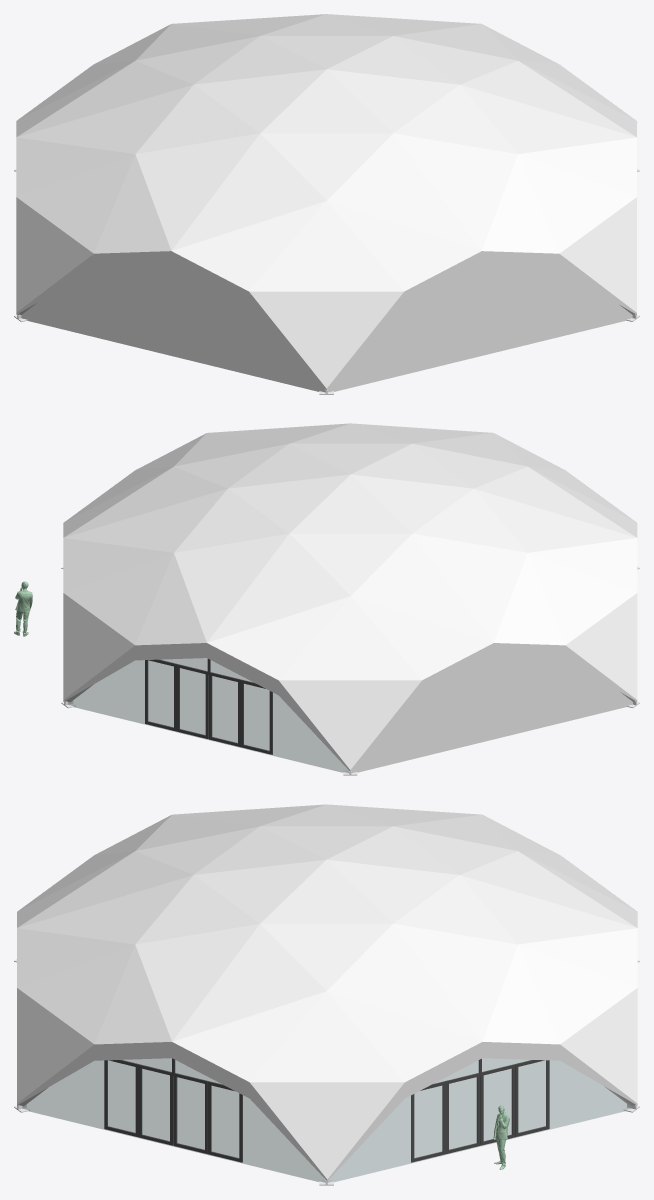
The model's file is hexa285.glb.
3 views of the same model, one above another, from view 1: azimuth 30°, elevation 25°; view 2: azimuth 150°, elevation 25°; view 3: azimuth 270°, elevation 25° (orthographic). The views are drawn at different scales.
Parts seen in each view (by area): view 1: tent, sidewall-1, sidewall-2, logo-area-4, logo-area-5, logo-area-3; view 2: tent, sidewall-3, windows-1, logo-area-6, logo-area-5, logo-area-1, ОСТЕКЛЕНИЕ.002, ОСТЕКЛЕНИЕ, ОСТЕКЛЕНИЕ.001, human, ОСТЕКЛЕНИЕ.003; view 3: tent, windows-3, windows-2, logo-area-2, logo-area-1, logo-area-3, ОСТЕКЛЕНИЕ020, ОСТЕКЛЕНИЕ019, ОСТЕКЛЕНИЕ013, ОСТЕКЛЕНИЕ010, ОСТЕКЛЕНИЕ021, ОСТЕКЛЕНИЕ012 (+3 smaller).
Boxes of the visible parts, x1,y1,x2,y2 form: tent: (16,14,636,390); sidewall-1: (327,267,632,392); sidewall-2: (21,267,325,392); logo-area-4: (249,291,403,388); logo-area-5: (16,197,93,312); logo-area-3: (559,197,636,312); tent: (63,423,637,771); sidewall-3: (351,658,632,772); windows-1: (68,658,349,772); logo-area-6: (279,680,421,769); logo-area-5: (566,593,637,699); logo-area-1: (63,593,134,699); ОСТЕКЛЕНИЕ.002: (176,664,208,739); ОСТЕКЛЕНИЕ: (240,679,272,754); ОСТЕКЛЕНИЕ.001: (209,672,240,746); human: (14,581,32,636); ОСТЕКЛЕНИЕ.003: (145,659,176,731); tent: (17,804,637,1181); windows-3: (22,1058,325,1182); windows-2: (327,1058,631,1182); logo-area-2: (250,1082,404,1179); logo-area-1: (560,988,637,1103); logo-area-3: (17,988,93,1103); ОСТЕКЛЕНИЕ020: (138,1064,173,1145); ОСТЕКЛЕНИЕ019: (173,1073,208,1154); ОСТЕКЛЕНИЕ013: (445,1073,480,1153); ОСТЕКЛЕНИЕ010: (515,1060,549,1137); ОСТЕКЛЕНИЕ021: (104,1060,138,1137); ОСТЕКЛЕНИЕ012: (480,1064,514,1145).
Size of the model in its own units: 206 by 55.44 by 180.
